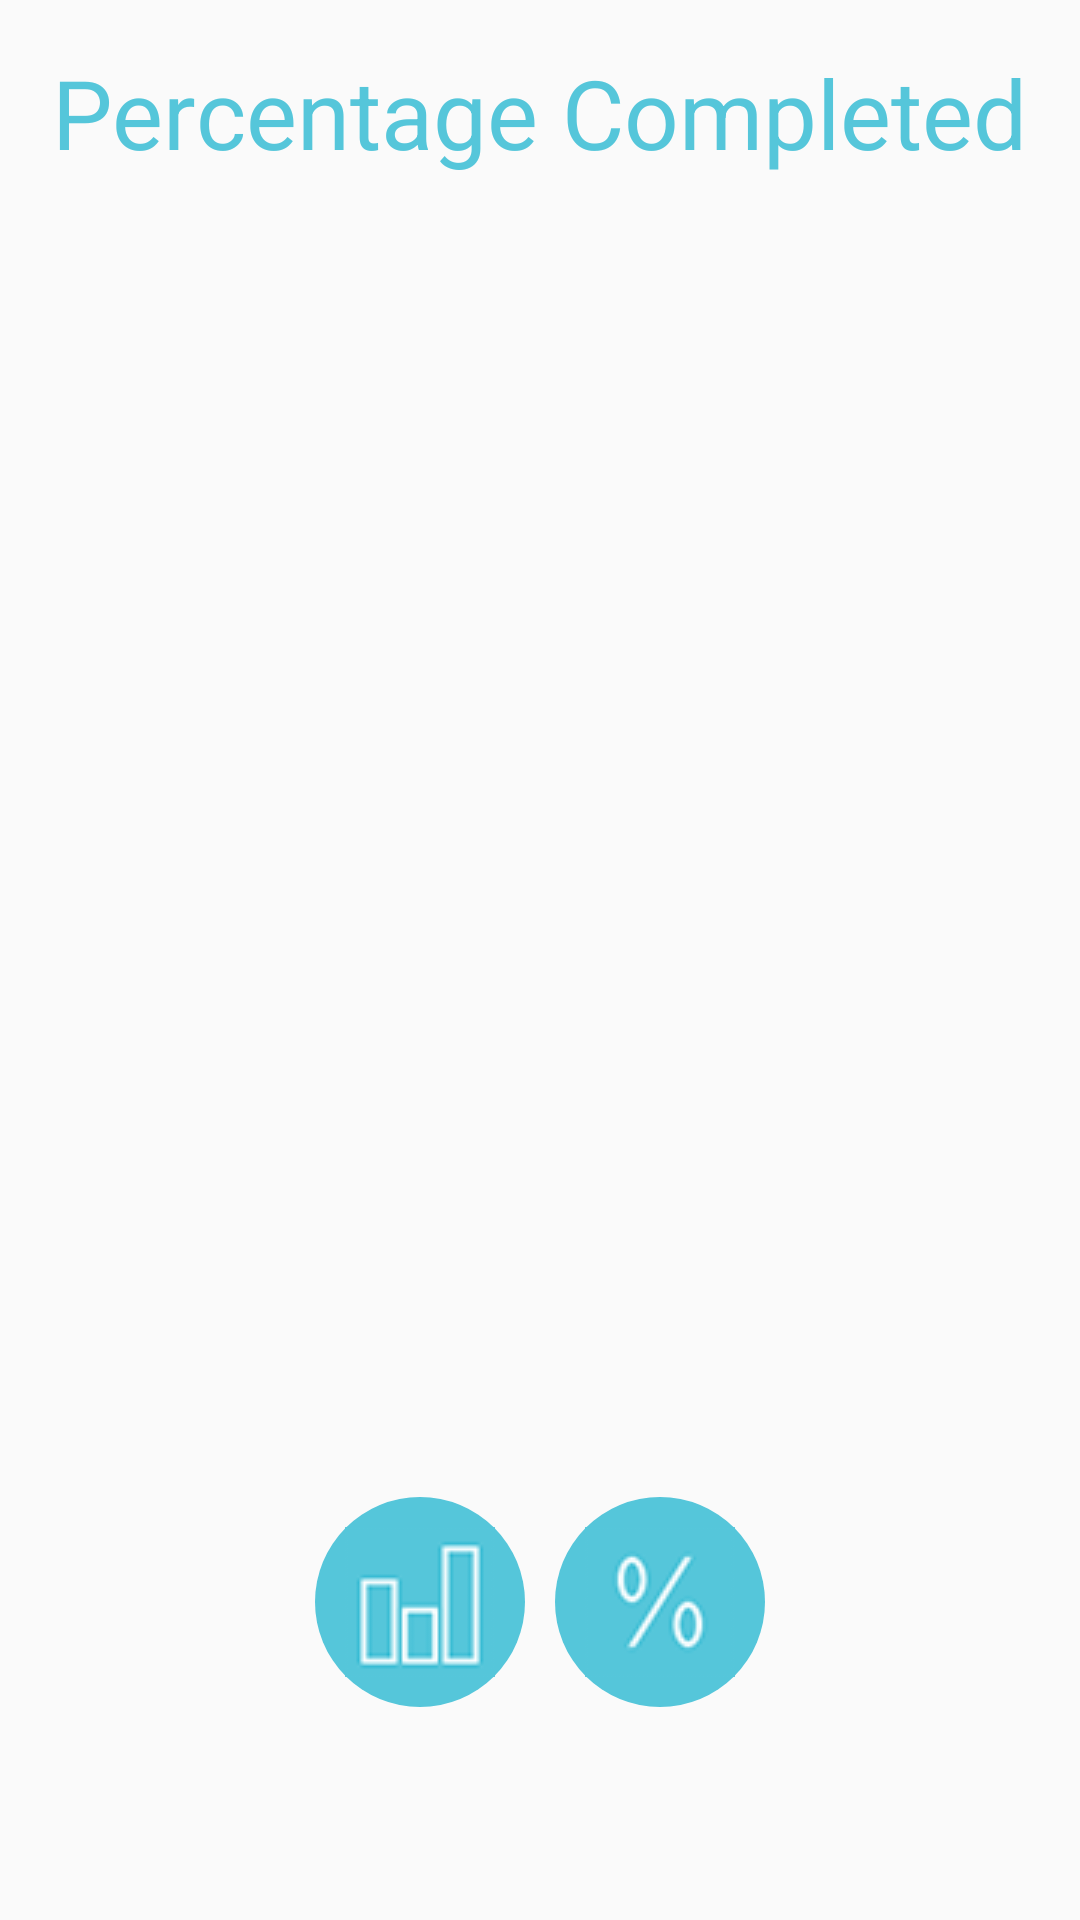

Icons on this 1080px x 1920px Android screen, each with the point to tap as [x,y]:
barblue: [420,1602]
